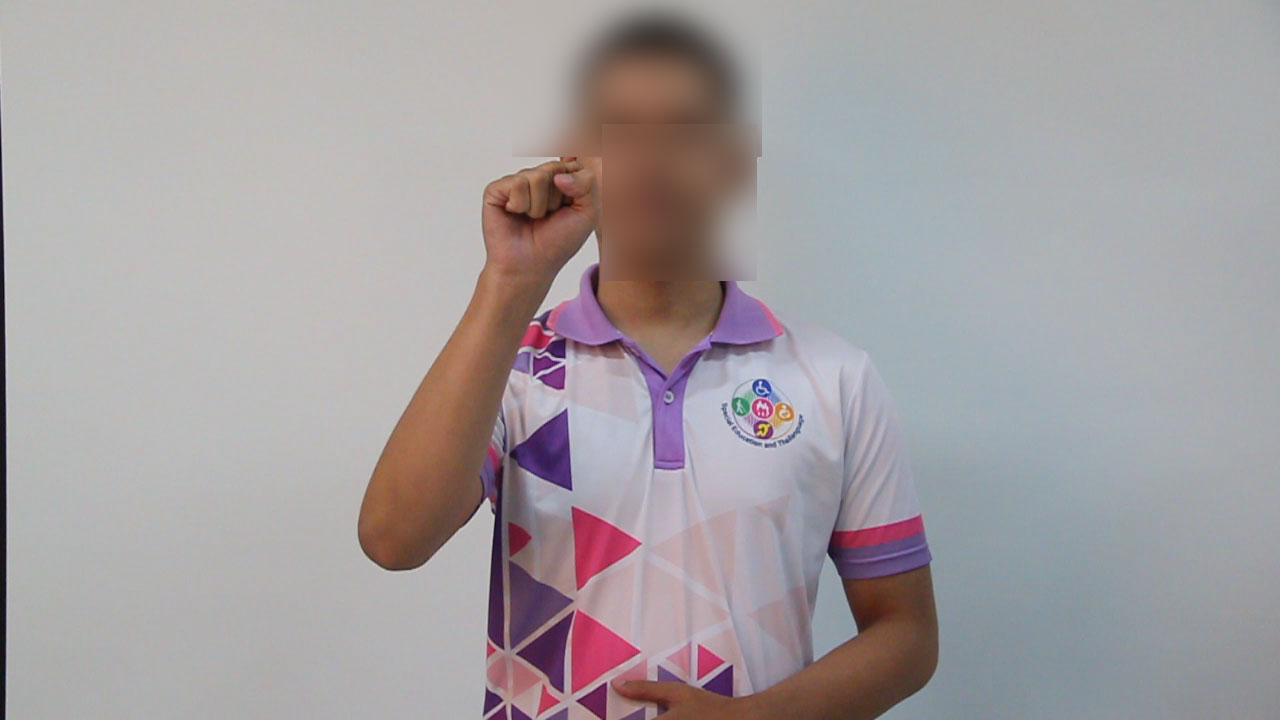sor: (464, 140, 603, 299)
